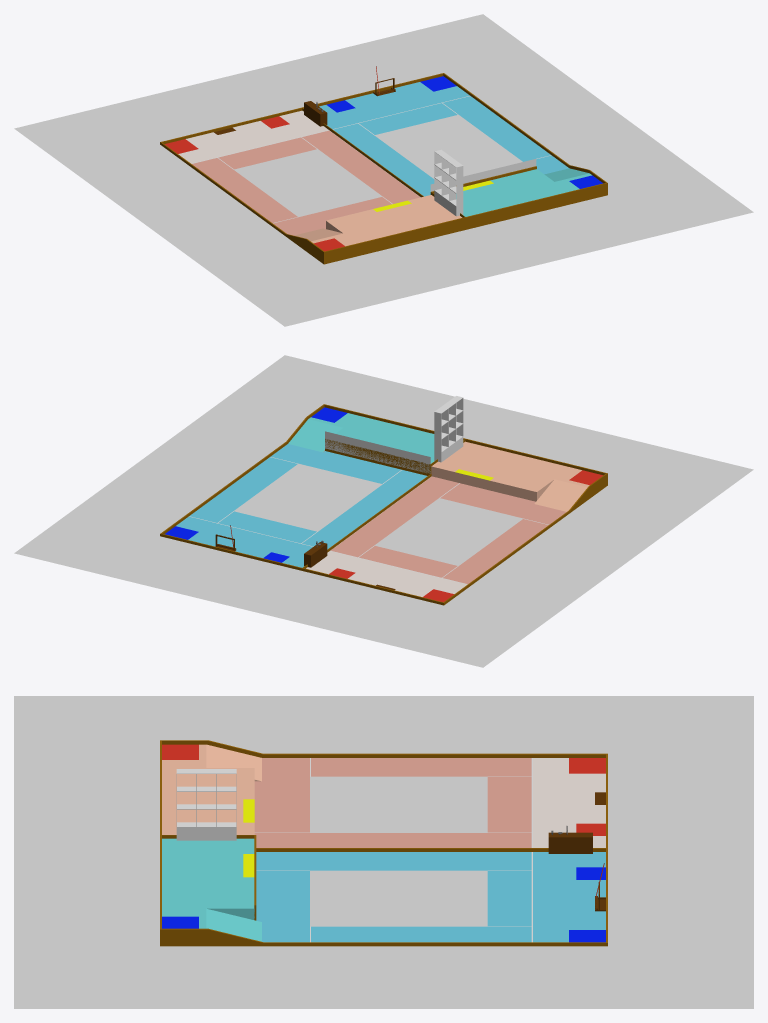
Rendered from robocon2026map_without_foreset.dae.
The picture shows the model from 3 angles, top to bottom: view 1: azimuth 30°, elevation 25°; view 2: azimuth 150°, elevation 25°; view 3: azimuth 270°, elevation 25°; orthographic projection. The views are drawn at different scales.
Parts seen in each view (by area): view 1: 平面.005, 主地图, 平面.006, 区域三放置架, 主地图.002; view 2: 平面.005, 主地图, 平面.006, 主地图.002, 区域三放置架, 2-3区围栏; view 3: 平面.005, 主地图, 平面.006, 区域三放置架, 立方体.
Part boxes in pixels (x1,y1,x2,y2): 平面.005: (14, 14, 753, 326); 主地图: (165, 76, 602, 251); 平面.006: (160, 73, 607, 264); 区域三放置架: (434, 149, 463, 216); 主地图.002: (430, 159, 536, 191); 平面.005: (14, 355, 753, 667); 主地图: (165, 407, 602, 602); 平面.006: (160, 404, 607, 605); 主地图.002: (325, 431, 430, 473); 区域三放置架: (434, 396, 463, 462); 2-3区围栏: (325, 439, 465, 475); 平面.005: (14, 696, 753, 1008); 主地图: (162, 744, 605, 942); 平面.006: (160, 740, 607, 946); 区域三放置架: (176, 769, 236, 840); 立方体: (548, 832, 592, 853).
Bounding box in the file's own units: 20 × 20 × 2.42.
